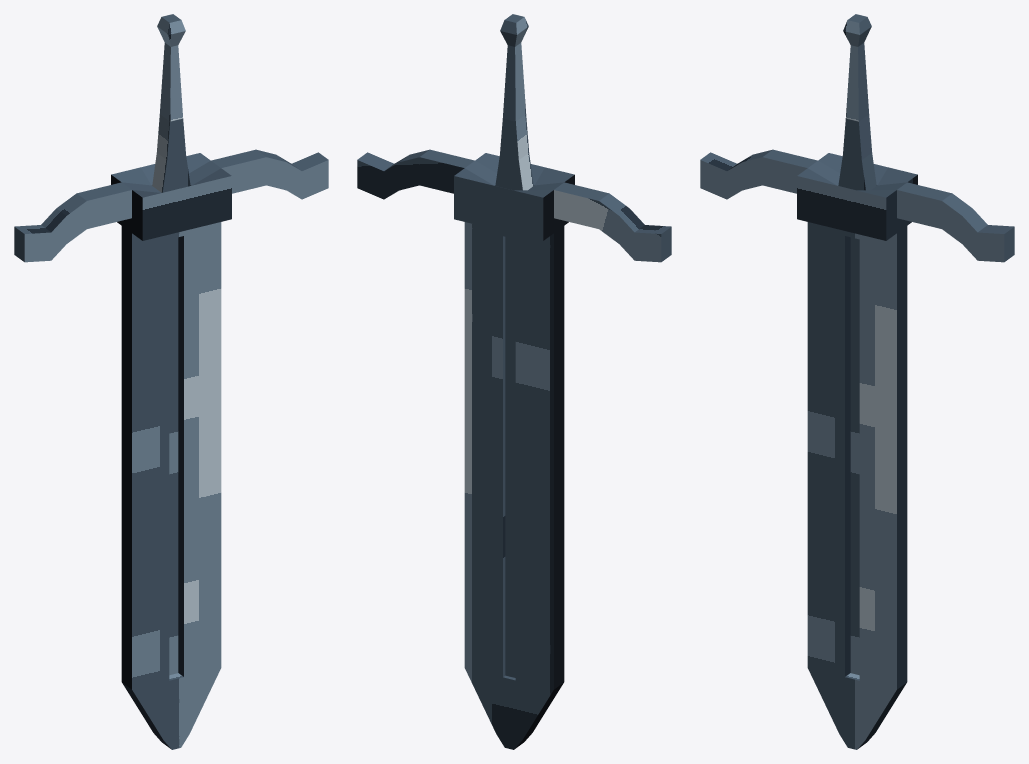
File: sword_test_uv_uwrap.glb
3 views of the same model, side by side, from view 1: azimuth 30°, elevation 25°; view 2: azimuth 150°, elevation 25°; view 3: azimuth 330°, elevation 25° (orthographic).
Parts seen in each view (by area): view 1: Sword; view 2: Sword; view 3: Sword.
Boxes of the visible parts, bbox=[...] form: Sword: bbox=[14, 14, 328, 749]; Sword: bbox=[357, 14, 671, 749]; Sword: bbox=[700, 14, 1014, 749].
Size of the model in its own units: 0.9102 by 2.08 by 0.1638.
Materials: 1 (1 with a texture image).
